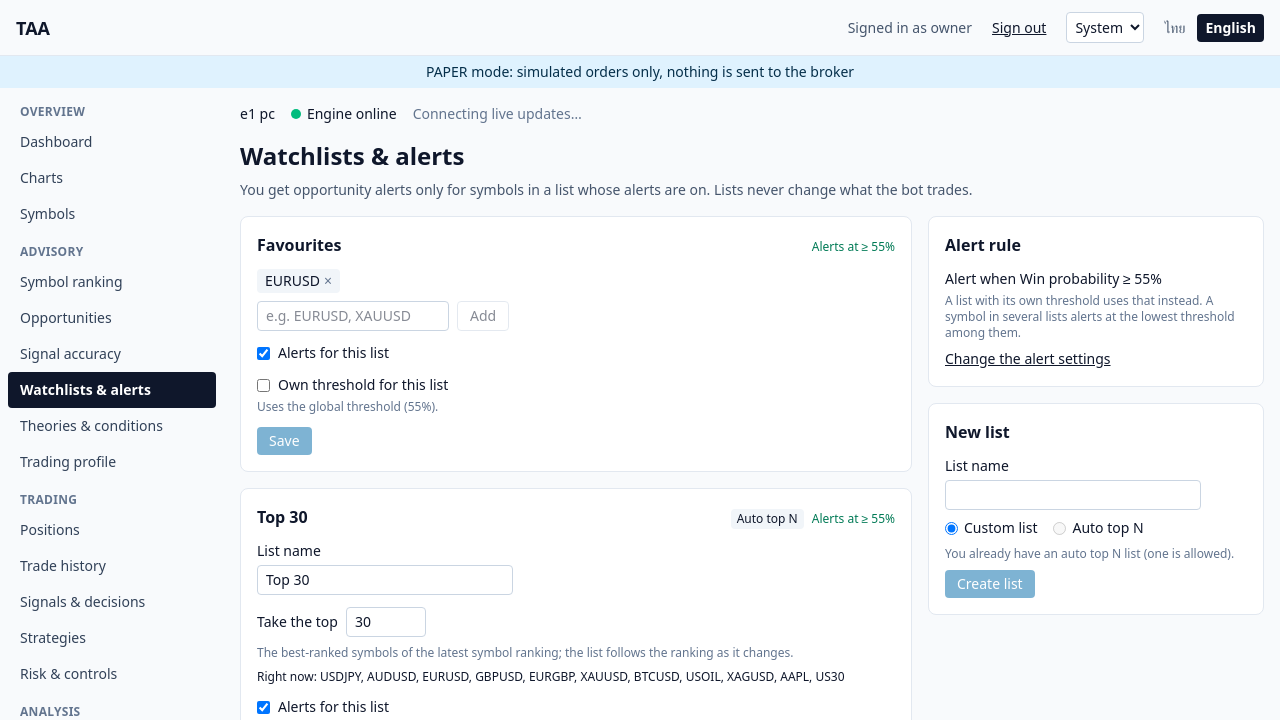
watchlists page › adds and removes favourites and saves the list
Expected: the button "Save" is disabled, 257,427 -> 312,455
Type "XAUUSD, bad/name" into the field named "Symbols to add" at (353, 316), box 257,301 -> 449,331
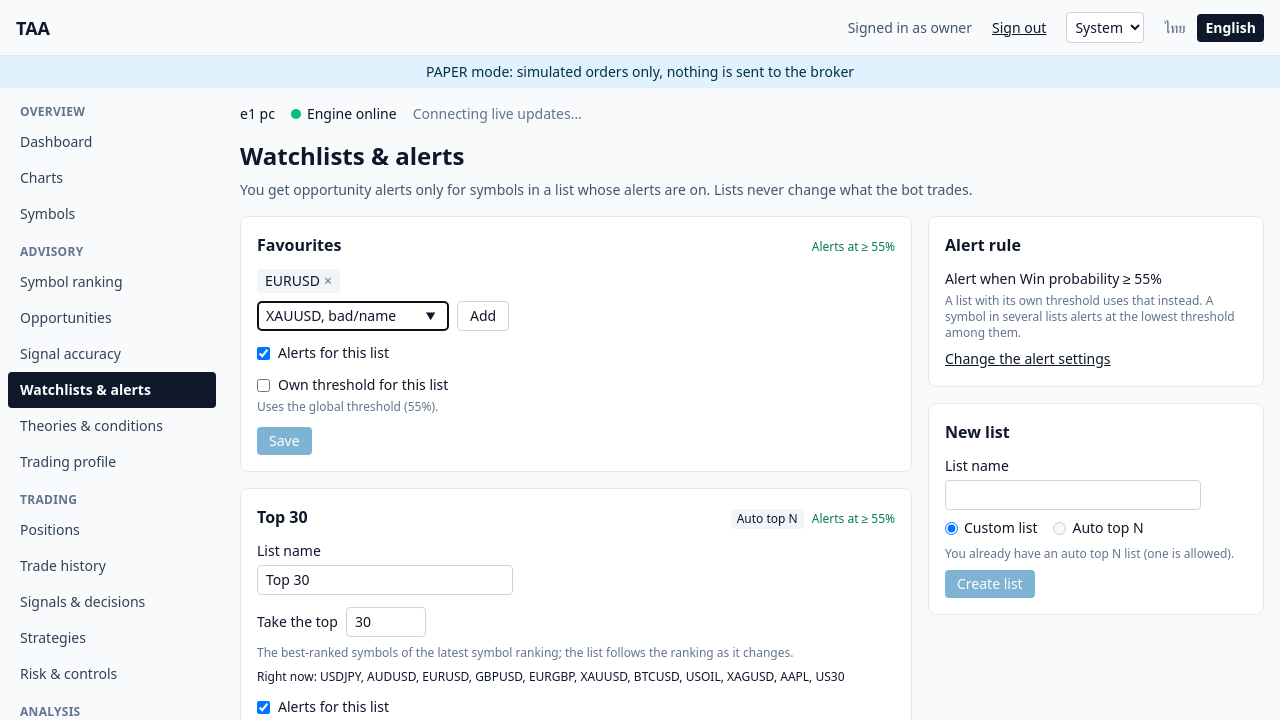
Click the button "Add" at (483, 316), box 457,301 -> 509,331
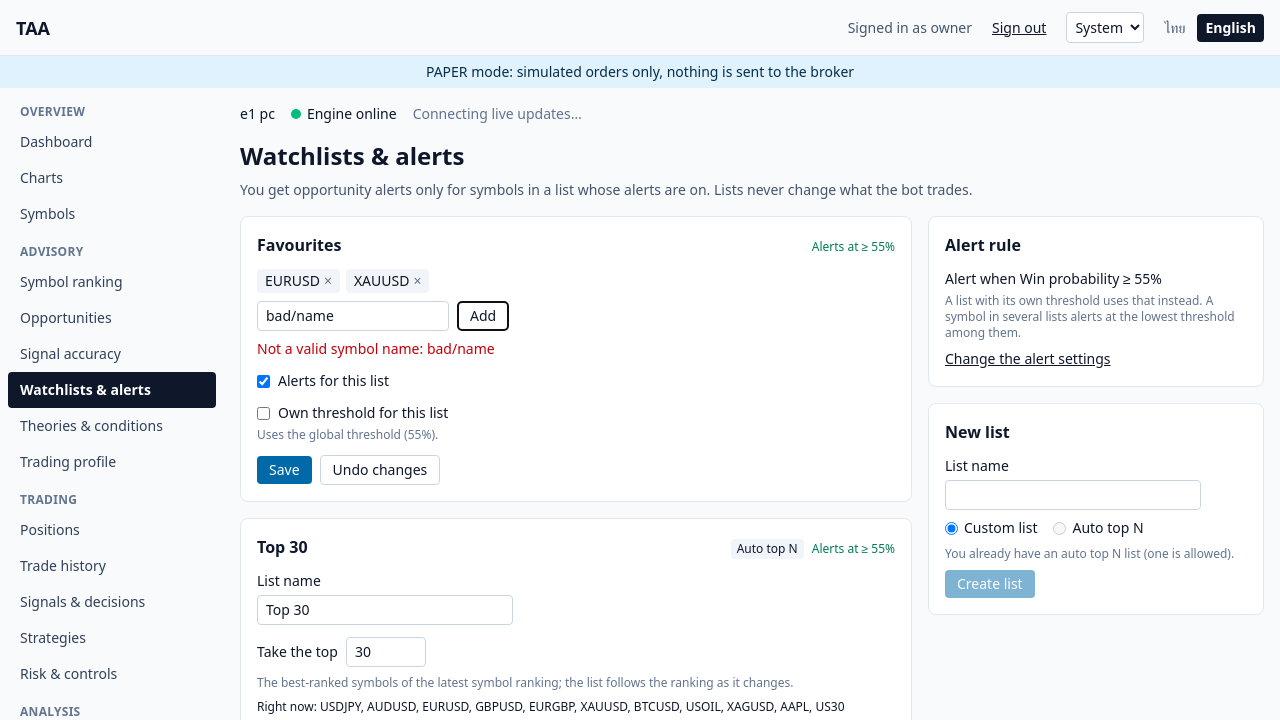
Expected: the message reads "Not a valid symbol name: bad/name", 257,339 -> 495,358
Click the button named "Remove EURUSD" at (328, 281), box 324,271 -> 332,291
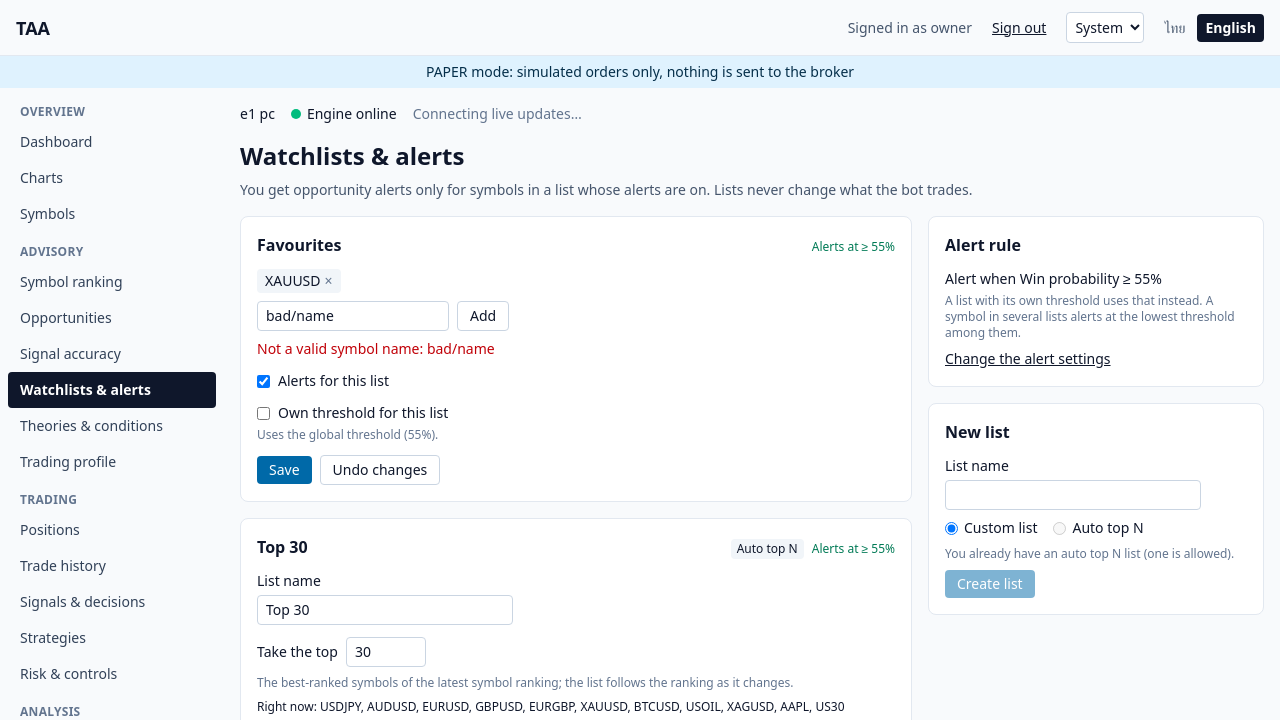
Click the button "Save" at (284, 470), box 257,456 -> 312,484
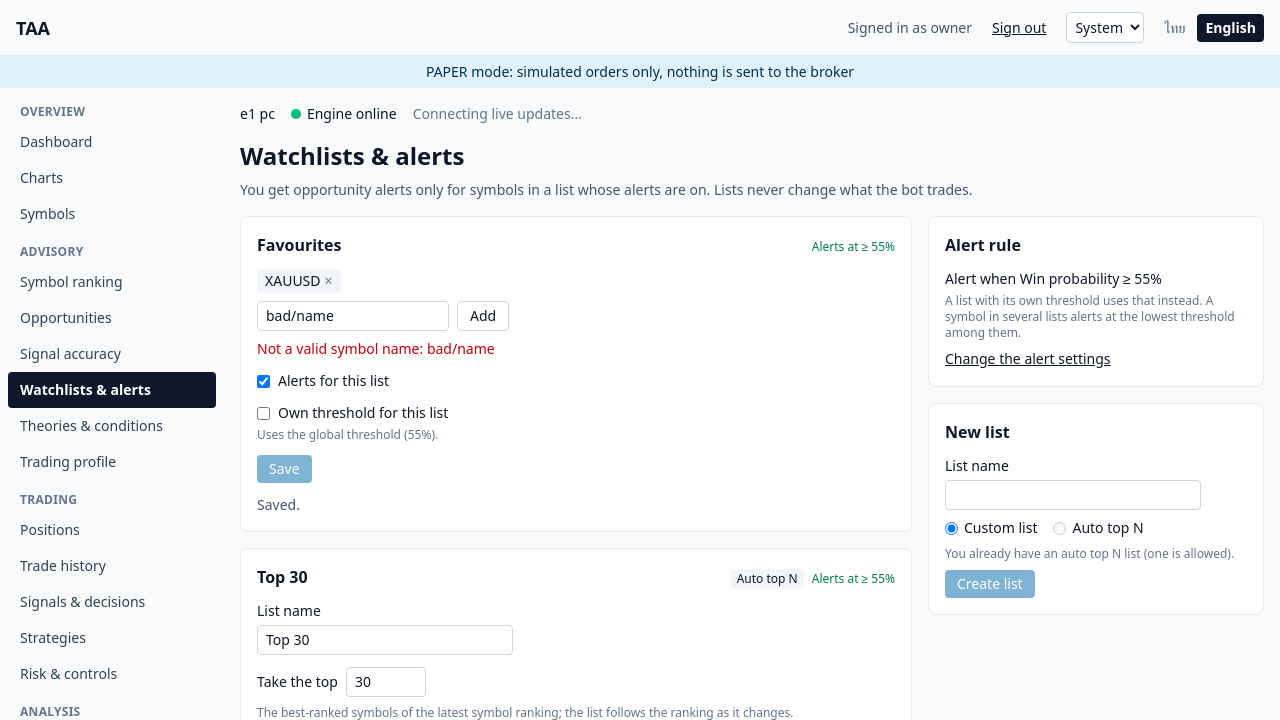
Expected: the list named "Symbols in the list" shows "XAUUSD", 265,271 -> 320,290
Expected: the message "Saved." is shown, 257,495 -> 300,514
